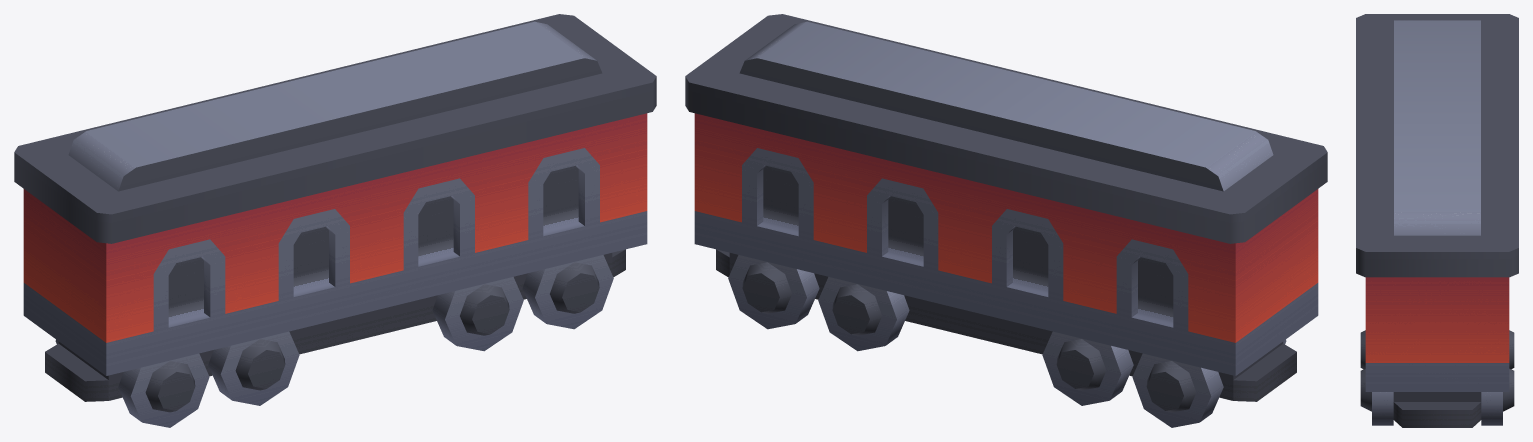
Rendered from train-wagon.glb.
3 views of the same model, side by side, from view 1: azimuth 30°, elevation 25°; view 2: azimuth 150°, elevation 25°; view 3: azimuth 270°, elevation 25° (orthographic). The views are drawn at different scales.
Parts seen in each view (by area): view 1: train-wagon; view 2: train-wagon; view 3: train-wagon.
Boxes of the visible parts, bbox=[...] form: train-wagon: bbox=[14, 14, 656, 427]; train-wagon: bbox=[685, 14, 1327, 427]; train-wagon: bbox=[1356, 14, 1518, 427].
Bounding box in the file's own units: 2.15 × 0.9389 × 0.621.
Materials: 1 (1 with a texture image).
